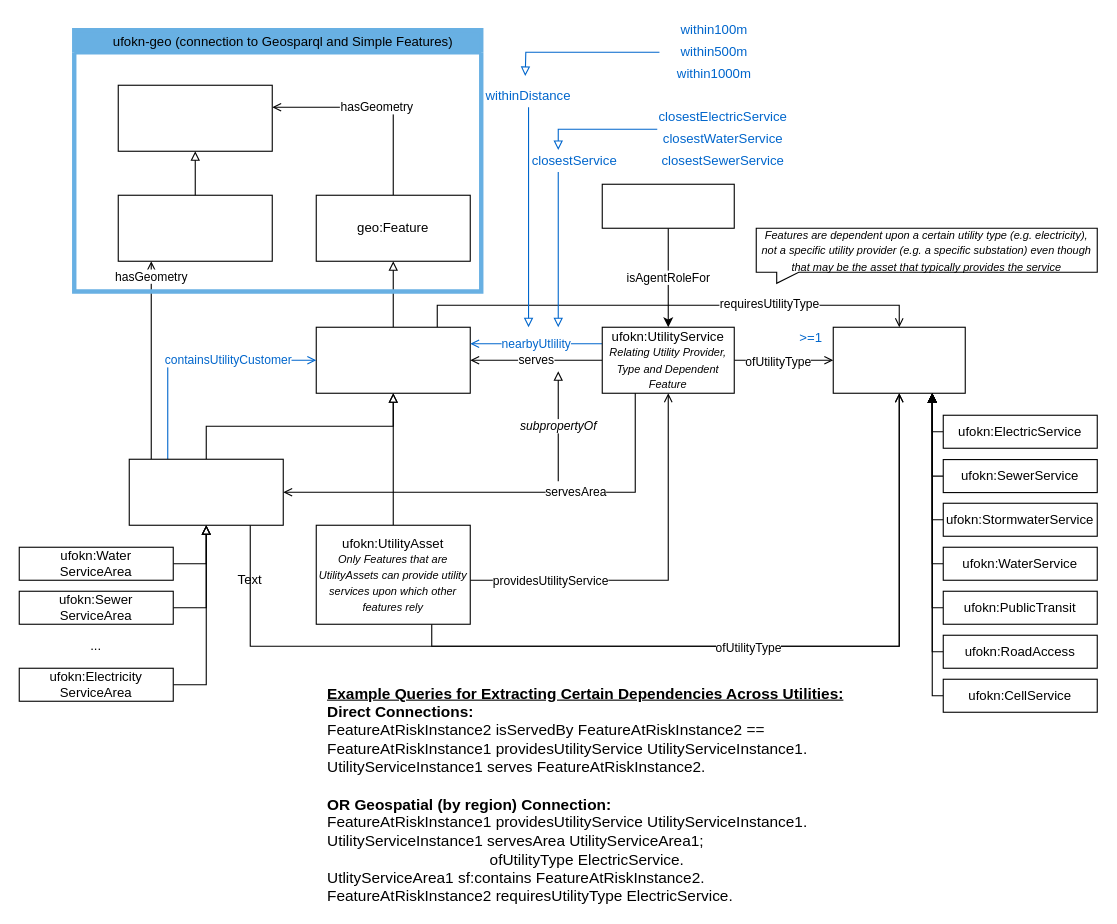
The diagram is 1117 pixels wide and 924 high, and some of its shapes have lost their labels. The centre of each missing label's shape, as x and y in pixels:
geo:Geometry: point (194, 117)
sf:Polygon: point (194, 227)
ufokn:FeatureAtRisk/ ufokn:RiskPoint: point (392, 359)
ufokn:UtilityServiceArea: point (205, 491)
ufokn:UtilityType: point (898, 359)
UtilityProvider <<AgentRole>>: point (667, 205)
